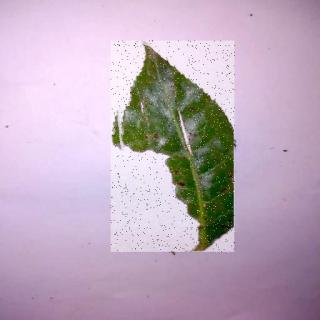Bird Eye Spot: (112, 42, 237, 254)
